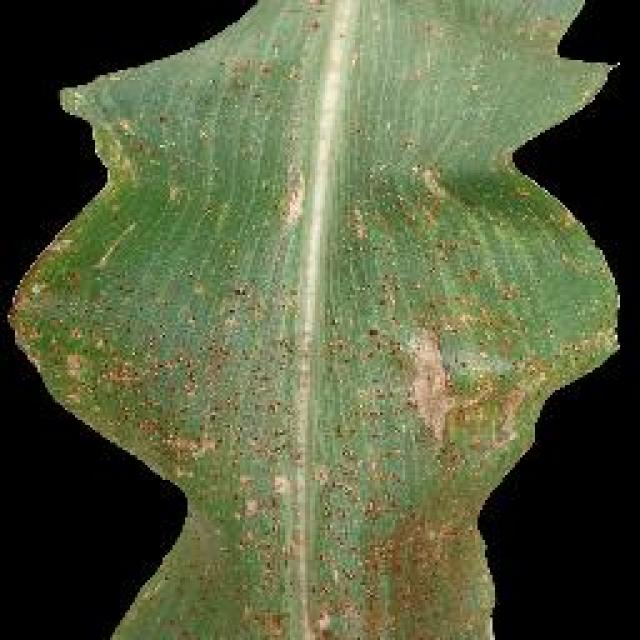Corn Common Rust: (88, 126, 507, 636)
